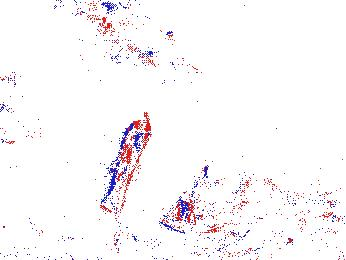X-ray fish: (159, 180, 251, 235), (111, 111, 151, 237), (1, 79, 40, 148)
glassfish: (210, 161, 346, 203)
siberian prawn: (71, 1, 203, 88), (211, 202, 346, 259)
